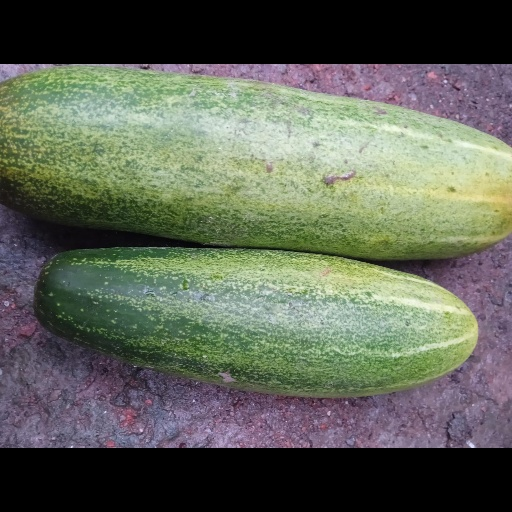concombre: (1, 66, 512, 258), (33, 248, 479, 400)
